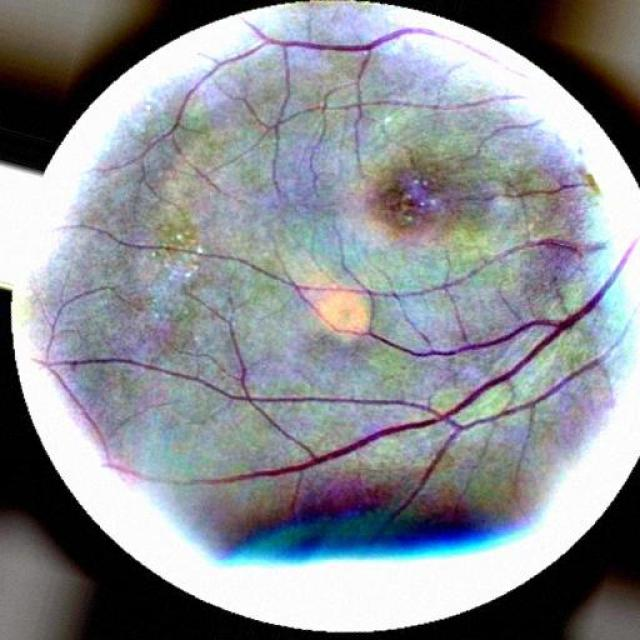Macula: (370, 162, 449, 232)
Nerves: (258, 238, 634, 480), (88, 227, 603, 302)
Optic Disk: (593, 178, 639, 373)
